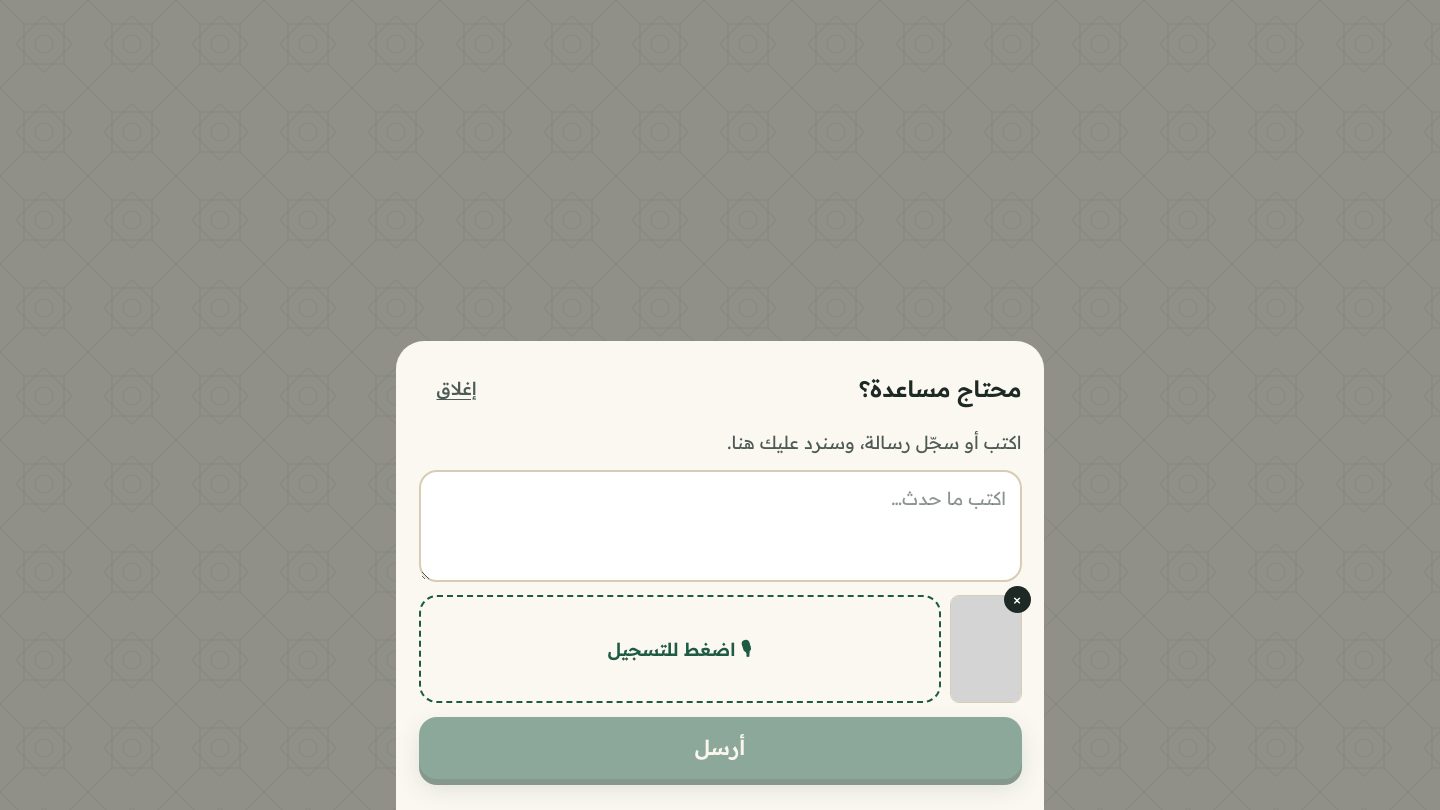
it: HelpSheet › shows the server's reason when sending fails
Type "x" into the text box named "رسالتك".
click(720, 526); type("x")  # box left=418, top=470, right=1022, bottom=582
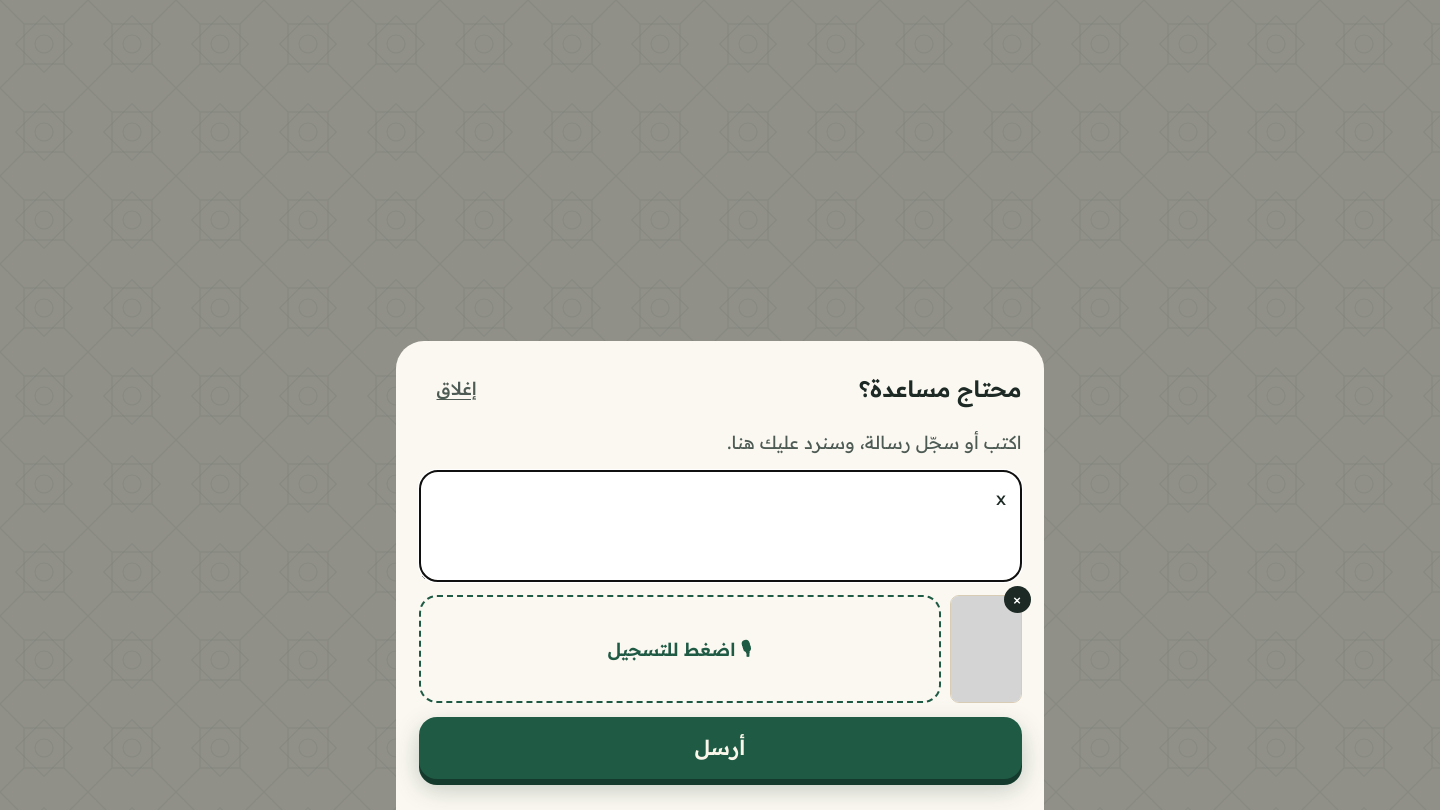
Click the button "أرسل".
click(720, 748)  # box left=418, top=716, right=1022, bottom=778
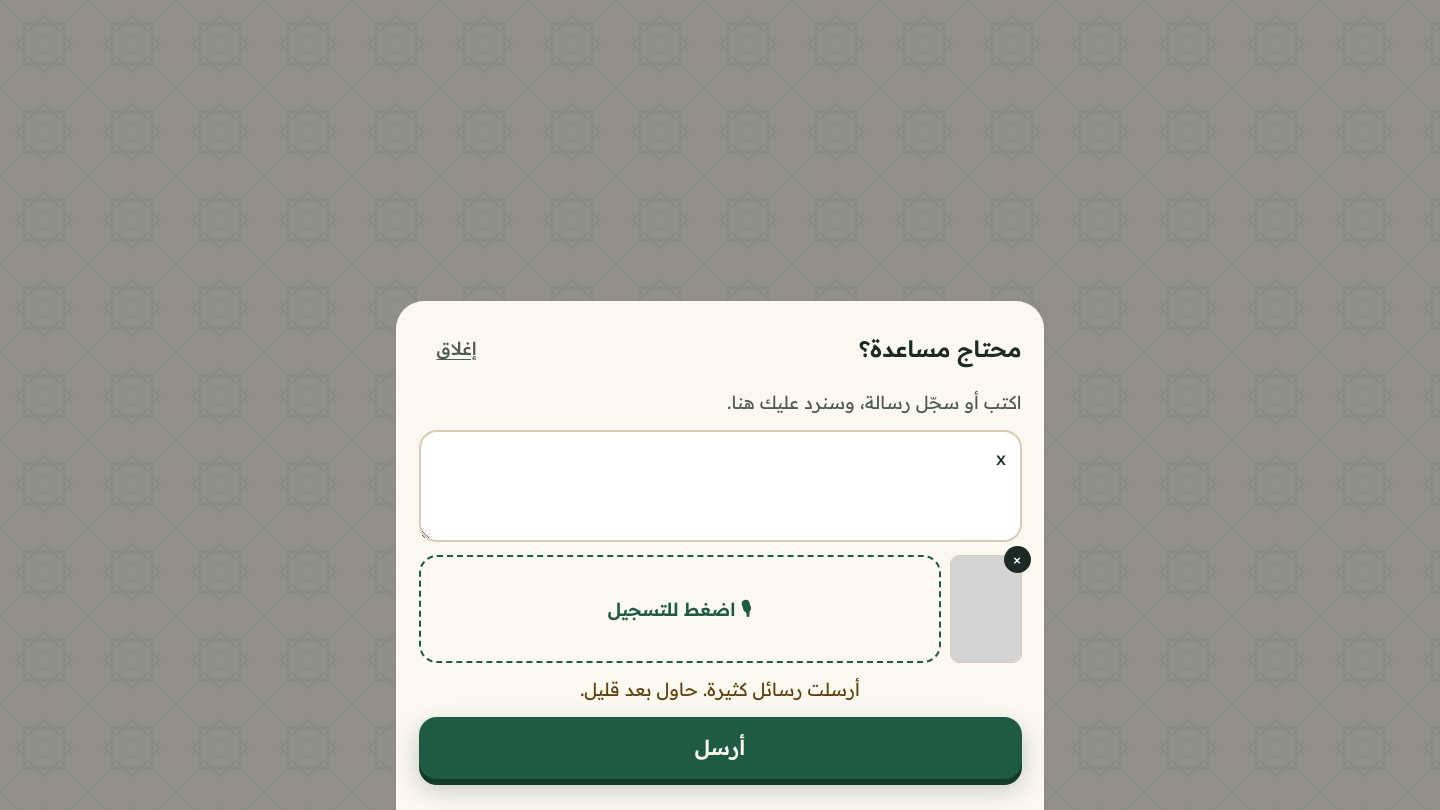
Expected: the message reads "أرسلت رسائل كثيرة. حاول بعد قليل.", left=580, top=678, right=860, bottom=701
